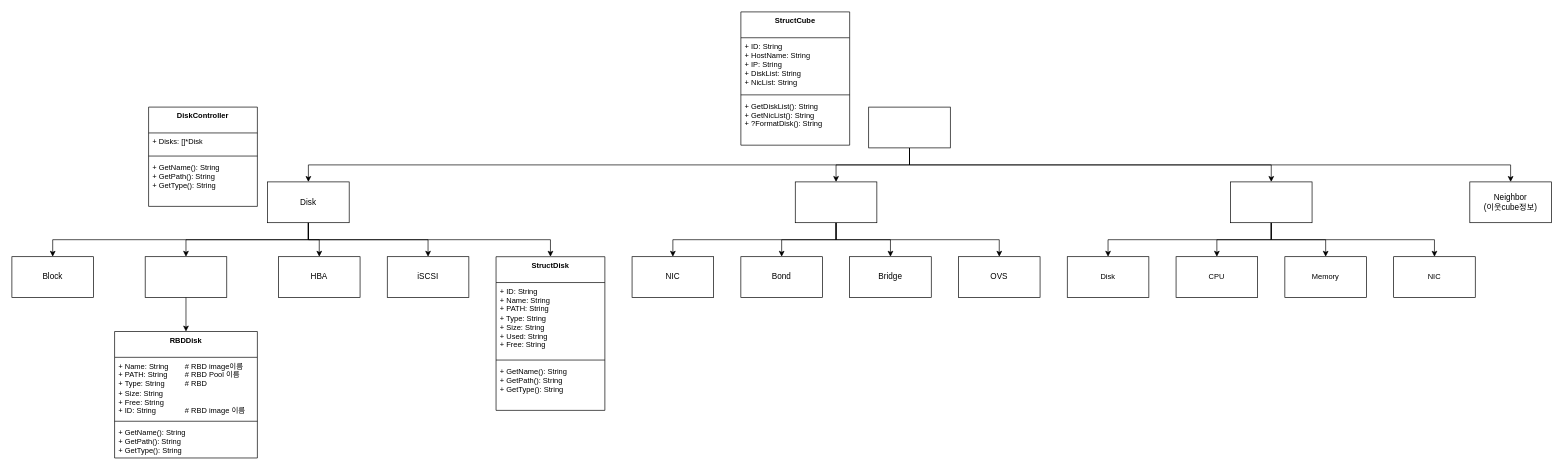
Image size: 1563x472. Some labels were removed from this diagram. Each missing label, with the centre of its shape:
"Cube" goes at (x=909, y=127).
"Network" goes at (x=836, y=202).
"RBD" goes at (x=185, y=277).
"VM" goes at (x=1271, y=202).
